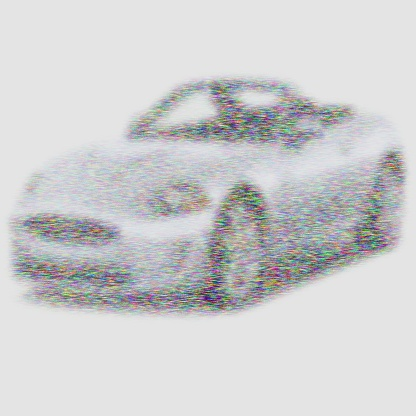Vehicle: (2, 51, 415, 343)
